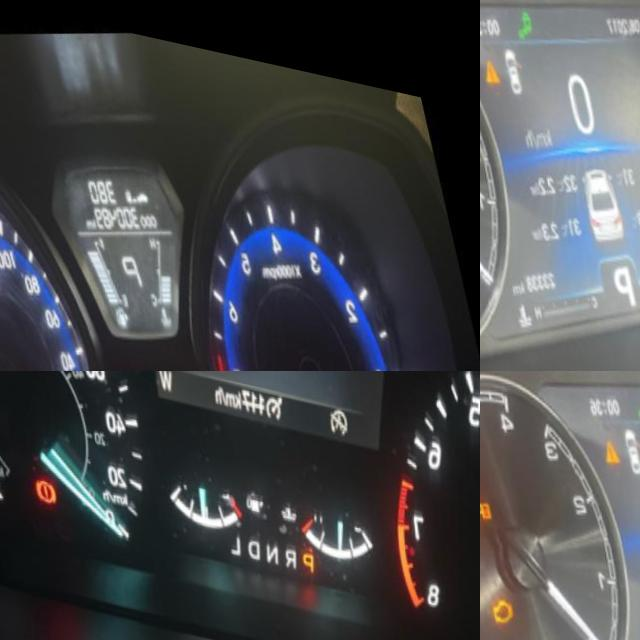Central Warning lamp: (480, 40, 503, 78), (600, 420, 623, 458)
